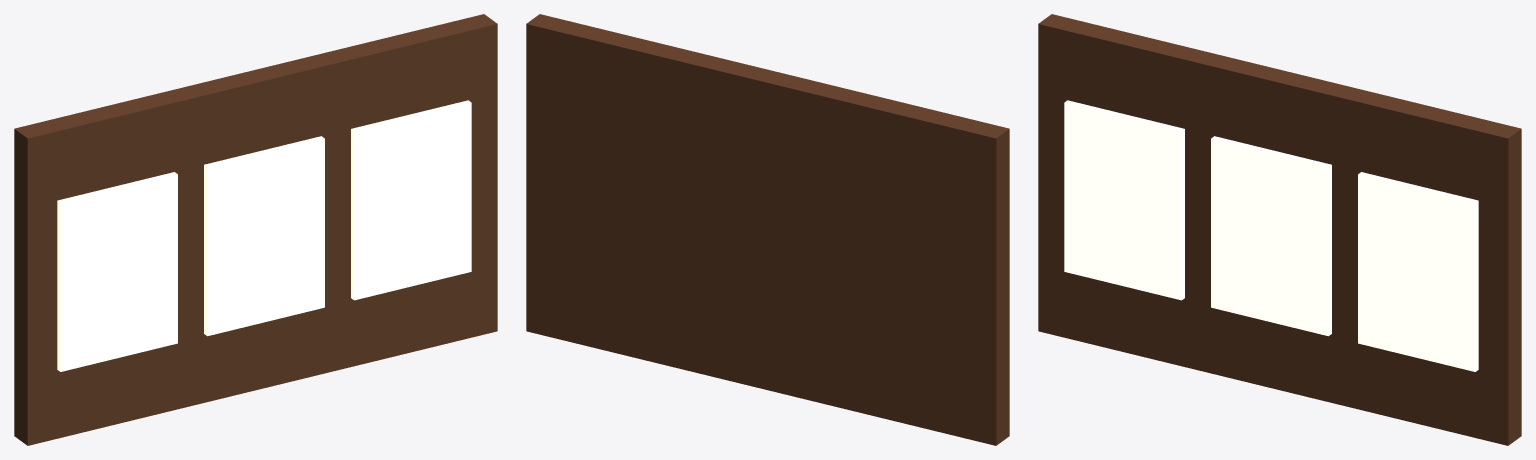
The model's file is f_board.glb.
3 views of the same model, side by side, from view 1: azimuth 30°, elevation 25°; view 2: azimuth 150°, elevation 25°; view 3: azimuth 330°, elevation 25° (orthographic).
Parts seen in each view (by area): view 1: board; view 2: board; view 3: board.
Part boxes in pixels (x1,y1,x2,y2): board: (14,14,497,445); board: (526,14,1009,445); board: (1038,14,1521,445).
Size of the model in its own units: 1.6 by 1 by 0.1.
